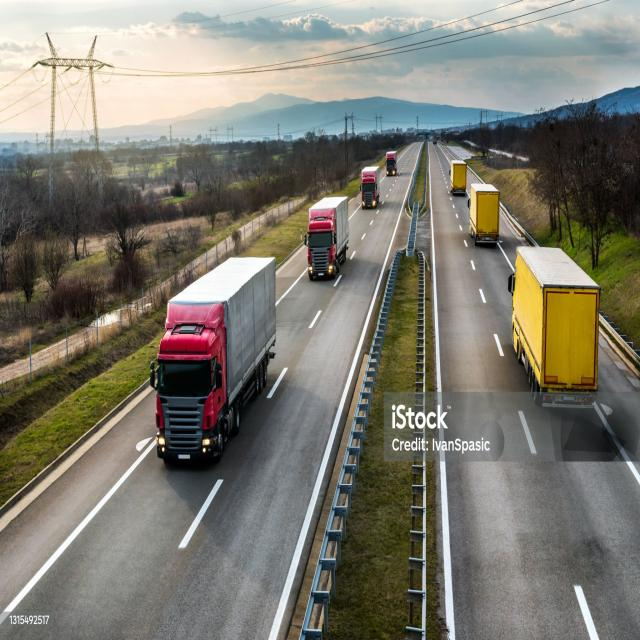truck: (150, 256, 276, 466), (508, 245, 601, 407), (304, 196, 349, 280), (468, 184, 500, 246), (360, 166, 380, 208), (449, 160, 467, 195), (386, 151, 398, 176)
